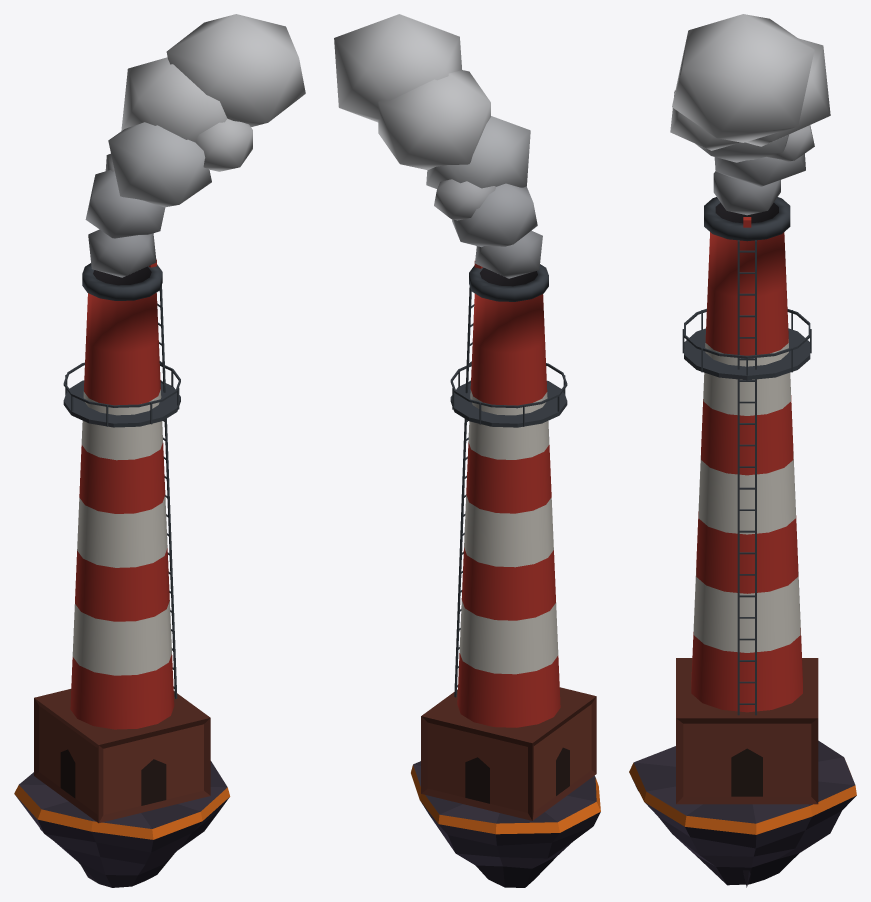
File: smokestack.glb
3 renders of one model, left to right at view 1: azimuth 30°, elevation 25°; view 2: azimuth 150°, elevation 25°; view 3: azimuth 270°, elevation 25°, orthographic. The views are drawn at different scales.
Visible parts, largest first — view 1: Stack, Rock; view 2: Stack, Rock; view 3: Stack, Rock.
Part boxes in pixels (x1,y1,x2,y2): Stack: (34,14,305,823); Rock: (14,761,230,887); Stack: (334,14,596,820); Rock: (411,761,600,887); Stack: (670,14,830,804); Rock: (629,740,856,887).
Size of the model in its own units: 8.3 by 25.72 by 5.77.
